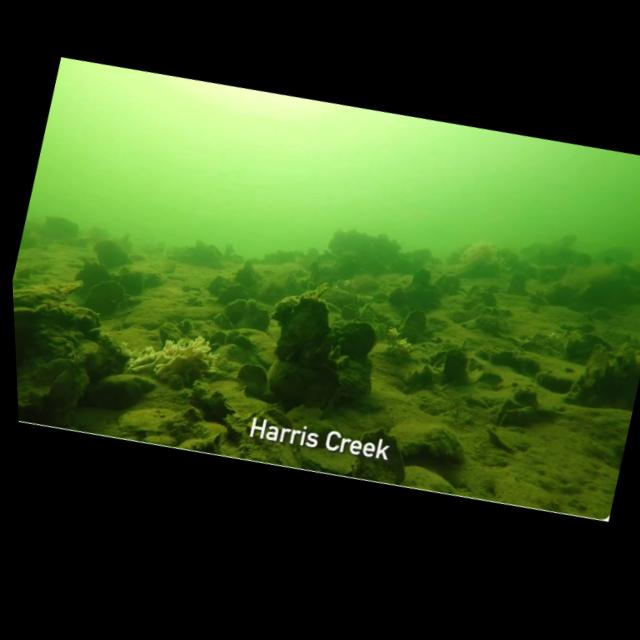Oyster-Closed: (12, 258, 87, 327), (290, 430, 377, 489), (479, 420, 524, 462), (397, 355, 442, 392), (155, 318, 185, 352)
Oyster-Indeterminate: (562, 336, 640, 417), (267, 288, 339, 369), (395, 415, 474, 480), (346, 421, 418, 492), (110, 392, 186, 448), (385, 451, 465, 504), (87, 358, 163, 408), (323, 311, 382, 370), (83, 271, 138, 327), (271, 273, 328, 324), (529, 357, 587, 402), (219, 405, 272, 448), (497, 393, 548, 436), (48, 361, 94, 408), (229, 356, 276, 401), (435, 341, 474, 391), (30, 347, 78, 387), (88, 235, 137, 273), (119, 257, 174, 290), (75, 256, 122, 292), (408, 384, 452, 420), (464, 362, 510, 396), (537, 274, 580, 310), (192, 412, 235, 447), (187, 373, 227, 410), (569, 274, 604, 314), (240, 295, 276, 333), (117, 266, 157, 299), (500, 267, 535, 303), (216, 277, 254, 310), (556, 333, 593, 366), (576, 327, 619, 355), (176, 429, 216, 458), (508, 347, 542, 380), (405, 278, 441, 308), (482, 342, 519, 371), (473, 308, 507, 339), (509, 383, 546, 411), (490, 393, 521, 426), (221, 294, 255, 324), (232, 257, 263, 288), (432, 270, 467, 296), (384, 251, 416, 279), (206, 269, 236, 298), (407, 262, 437, 291), (388, 338, 418, 367), (370, 318, 397, 345), (470, 286, 500, 309), (184, 324, 214, 345), (383, 283, 410, 306), (205, 325, 230, 349), (220, 325, 242, 350), (340, 297, 361, 321), (233, 330, 256, 351), (216, 312, 238, 331), (369, 288, 392, 306), (176, 316, 197, 335), (323, 355, 340, 370)
Oyster-Open: (388, 297, 438, 350), (256, 401, 302, 444), (165, 369, 187, 391), (335, 351, 351, 370), (208, 339, 221, 353)
